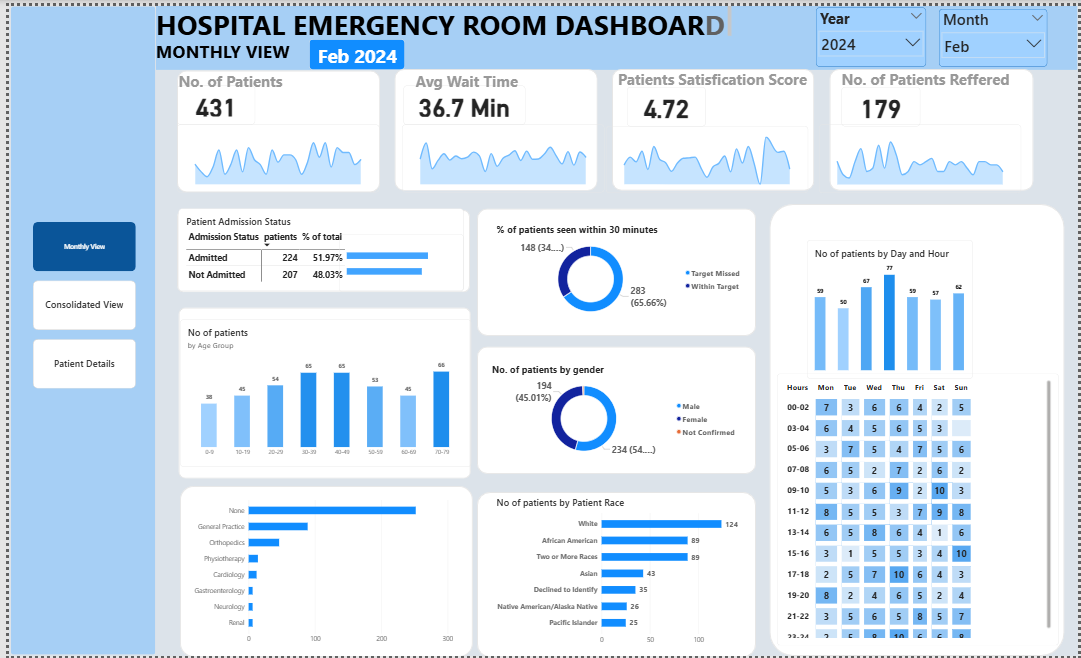

The dashboard page shown, as its layout file describes it:
{"tool":"powerbi","page":{"name":"Monthly View","canvas":[2300,1400],"ordinal":0},"visuals":[{"type":"shape","box":[316.7,0,1983.3,137.5],"z":0},{"type":"textbox","box":[316.7,0,1237.5,70.8],"z":2000},{"type":"textbox","box":[316.7,70.8,358.3,66.7],"z":3000},{"type":"shape","box":[360.3,138.3,436.7,262],"z":4000},{"type":"card","fields":{"Values":["Hospital ER_Data.No of patients"]},"box":[362,171.9,168.2,84.1],"z":5000},{"type":"slicer","fields":{"Values":["Date Table.Year"]},"box":[1735.9,3.6,236.6,127.4],"z":6000},{"type":"slicer","fields":{"Values":["Date Table.Month"]},"box":[2001.6,7.3,232.9,123.7],"z":7000},{"type":"textbox","box":[364.2,137.7,309.4,58.5],"z":8000},{"type":"cardVisual","fields":{"Data":["Min(Date Table.Month & Year)"]},"box":[645,70,206.4,66.3],"z":10000},{"type":"areaChart","fields":{"Category":["Date Table.Date.Variation.Date Hierarchy.Day"],"Y":["Hospital ER_Data.No of patients"]},"box":[362,256,435.1,146.3],"z":10750},{"type":"shape","box":[829.3,136,436.7,262],"z":11000},{"type":"card","fields":{"Values":["Hospital ER_Data.Avg Wait Time"]},"box":[847.8,169.6,261.7,84.8],"z":12000},{"type":"shape","box":[1298.3,136.4,434.9,261.7],"z":13000},{"type":"shape","box":[1765.5,136.4,438.6,261.7],"z":14000},{"type":"textbox","box":[1791.3,136.4,468.1,62.7],"z":15000},{"type":"shape","box":[4.2,0,312.5,1395.8],"z":15500},{"type":"areaChart","fields":{"Category":["Date Table.Date.Variation.Date Hierarchy.Day"],"Y":["Avg(Hospital ER_Data.Patient Waittime)"]},"box":[846.3,253.7,435.1,146.3],"z":16000},{"type":"card","fields":{"Values":["Hospital ER_Data.Patients Satisfication Score"]},"box":[1330.6,173.2,169.6,84.8],"z":17000},{"type":"textbox","box":[873.6,140.1,313.3,59],"z":18000},{"type":"areaChart","fields":{"Category":["Date Table.Date.Variation.Date Hierarchy.Day"],"Y":["Hospital ER_Data.Patients Satisfication Score"]},"box":[1282.7,258,434.9,143.8],"z":19000},{"type":"areaChart","fields":{"Category":["Date Table.Date.Variation.Date Hierarchy.Day"],"Y":["Hospital ER_Data.No of patients Reffered"]},"box":[1743.4,254.3,434.9,147.4],"z":20000},{"type":"card","fields":{"Values":["Hospital ER_Data.No of patients Reffered"]},"box":[1791.3,173.2,169.6,84.8],"z":21000},{"type":"textbox","box":[1308.5,136.4,423.9,62.7],"z":22000},{"type":"shape","box":[361.2,438.6,630,177],"z":23000},{"type":"pivotTable","title":"Patient Admission Status","fields":{"Rows":["Hospital ER_Data.Admission Status"],"Values":["Hospital ER_Data.No of patients1","Hospital ER_Data.No of patients"]},"box":[363.6,436.4,613.6,177.3],"z":24000},{"type":"barChart","fields":{"Category":["Hospital ER_Data.Admission Status"],"Y":["Hospital ER_Data.No of patients"]},"box":[709.4,490.6,267.9,124.5],"z":25000},{"type":"shape","box":[364.3,650,628.6,368],"z":26000},{"type":"clusteredColumnChart","fields":{"Category":["Hospital ER_Data.Age Group"],"Y":["Hospital ER_Data.No of patients"]},"box":[366.7,673.3,626.7,316.7],"z":27000},{"type":"shape","box":[367.6,1032.4,629.7,367.6],"z":28000},{"type":"clusteredBarChart","fields":{"Category":["Hospital ER_Data.Department Referral"],"Y":["Hospital ER_Data.No of patients"]},"box":[391.9,1054.1,564.9,321.6],"z":29000},{"type":"shape","box":[1007.4,437,600,274.1],"z":30000},{"type":"donutChart","title":"% of patients seen within 30 minutes","fields":{"Category":["Hospital ER_Data.WaitTime Status"],"Y":["Hospital ER_Data.No of patients"]},"box":[1047.5,467.5,532.5,210],"z":31000},{"type":"shape","box":[1007.4,733.3,600,274.1],"z":32000},{"type":"donutChart","title":"No. of patients by gender","fields":{"Category":["Hospital ER_Data.Patient Gender"],"Y":["Hospital ER_Data.No of patients"]},"box":[1037.7,766.4,532.5,210],"z":33000},{"type":"shape","box":[1007.4,1044.4,600,355.6],"z":34000},{"type":"clusteredBarChart","fields":{"Category":["Hospital ER_Data.Patient Race"],"Y":["Hospital ER_Data.No of patients"]},"box":[1048.1,1055.6,533.3,322.2],"z":35000},{"type":"shape","box":[1634.4,425,634.4,971.9],"z":36000},{"type":"pivotTable","fields":{"Columns":["Date Table.Day Name"],"Rows":["Hospital ER_Data.WaitTime Interval"],"Values":["Hospital ER_Data.No of patients"]},"box":[1650,790.6,606.2,584.4],"z":37000},{"type":"columnChart","title":"No of patients by Day and Hour","fields":{"Category":["Date Table.Day Name"],"Y":["Hospital ER_Data.No of patients"]},"box":[1717.7,502.2,356.6,298.4],"z":38000},{"type":"pageNavigator","box":[50.9,465.8,222,360.3],"z":38001}]}

Visuals, with their boxes in screenshot pixels (x1, y1, x2, y2), scaled from the page's 2300x1400 canvas onto the 1081x658 screenshot:
shape: 149, 0, 1080, 65
textbox: 149, 0, 730, 33
textbox: 149, 33, 317, 65
shape: 169, 65, 375, 188
card - Hospital ER_Data.No of patients: 170, 81, 249, 120
slicer - Date Table.Year: 816, 2, 927, 62
slicer - Date Table.Month: 941, 3, 1050, 62
textbox: 171, 65, 317, 92
cardVisual - Min(Date Table.Month & Year): 303, 33, 400, 64
areaChart - Date Table.Date.Variation.Date Hierarchy.Day x Hospital ER_Data.No of patients: 170, 120, 375, 189
shape: 390, 64, 595, 187
card - Hospital ER_Data.Avg Wait Time: 398, 80, 521, 120
shape: 610, 64, 815, 187
shape: 830, 64, 1036, 187
textbox: 842, 64, 1062, 94
shape: 2, 0, 149, 656
areaChart - Date Table.Date.Variation.Date Hierarchy.Day x Avg(Hospital ER_Data.Patient Waittime): 398, 119, 602, 188
card - Hospital ER_Data.Patients Satisfication Score: 625, 81, 705, 121
textbox: 411, 66, 558, 94
areaChart - Date Table.Date.Variation.Date Hierarchy.Day x Hospital ER_Data.Patients Satisfication Score: 603, 121, 807, 189
areaChart - Date Table.Date.Variation.Date Hierarchy.Day x Hospital ER_Data.No of patients Reffered: 819, 120, 1024, 189
card - Hospital ER_Data.No of patients Reffered: 842, 81, 922, 121
textbox: 615, 64, 814, 94
shape: 170, 206, 466, 289
"Patient Admission Status" pivotTable: 171, 205, 459, 288
barChart - Hospital ER_Data.Admission Status x Hospital ER_Data.No of patients: 333, 231, 459, 289
shape: 171, 306, 467, 478
clusteredColumnChart - Hospital ER_Data.Age Group x Hospital ER_Data.No of patients: 172, 316, 467, 465
shape: 173, 485, 469, 657
clusteredBarChart - Hospital ER_Data.Department Referral x Hospital ER_Data.No of patients: 184, 495, 450, 647
shape: 473, 205, 755, 334
"% of patients seen within 30 minutes" donutChart: 492, 220, 743, 318
shape: 473, 345, 755, 473
"No. of patients by gender" donutChart: 488, 360, 738, 459
shape: 473, 491, 755, 657
clusteredBarChart - Hospital ER_Data.Patient Race x Hospital ER_Data.No of patients: 493, 496, 743, 648
shape: 768, 200, 1066, 657
pivotTable - Date Table.Day Name x Hospital ER_Data.WaitTime Interval: 776, 372, 1060, 646
"No of patients by Day and Hour" columnChart: 807, 236, 975, 376
pageNavigator: 24, 219, 128, 388
